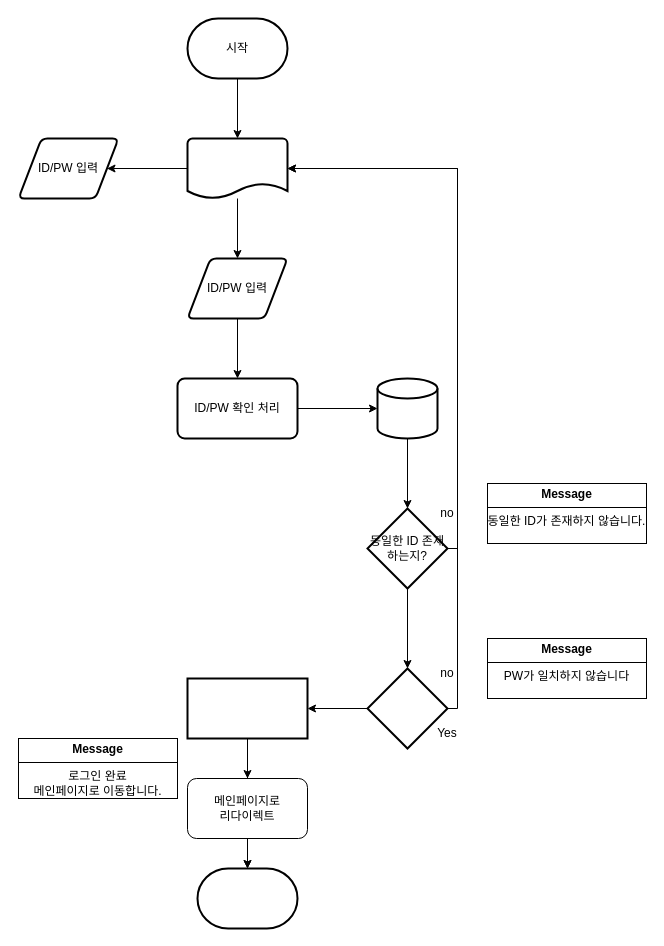
This 664x946 diagram has some shape labels left out. Each missing label, with the box of its shape:
PW가 일치하는지?: (366, 667, 448, 749)
로그인 페이지: (186, 137, 288, 199)
유저 테이블: (376, 377, 438, 439)
인증확인 권한부여: (186, 677, 308, 739)
종료: (196, 867, 298, 929)
